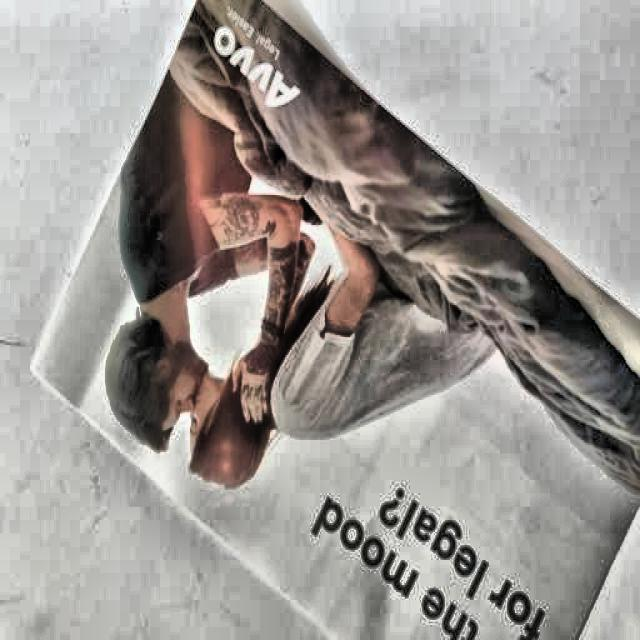paper: (48, 8, 640, 640)
